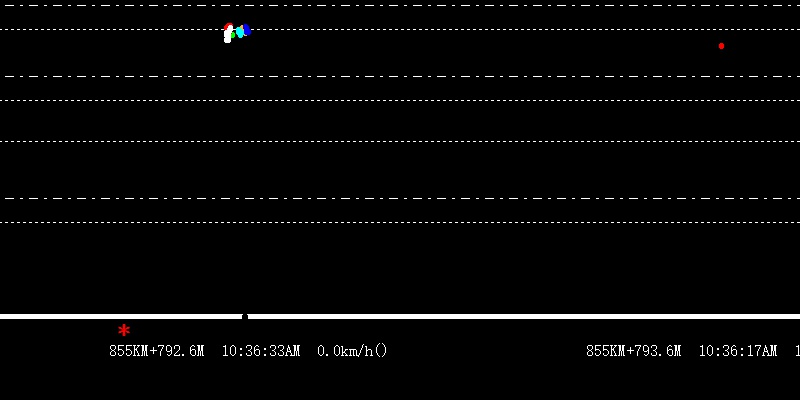face_s: (222, 19, 233, 46), (237, 21, 251, 41)
star: (116, 322, 130, 335)
